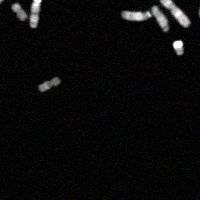chromosome: (160, 0, 190, 26), (29, 0, 50, 30), (151, 5, 169, 32), (121, 9, 151, 22), (37, 76, 60, 92), (11, 4, 28, 19), (173, 39, 184, 54), (0, 0, 30, 4), (197, 0, 200, 18)
